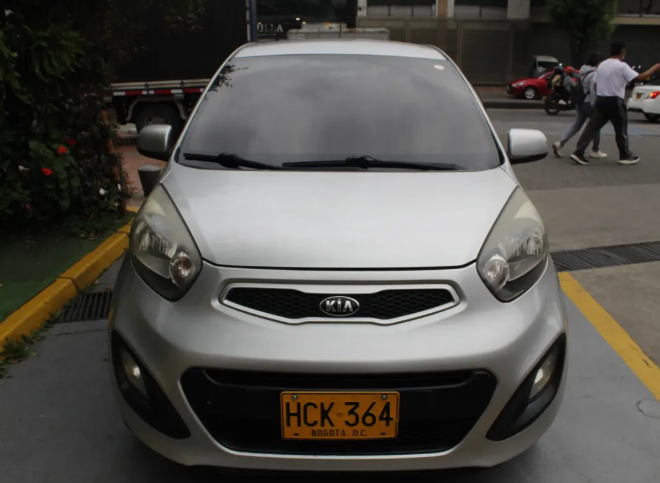placa: (281, 391, 399, 438)
